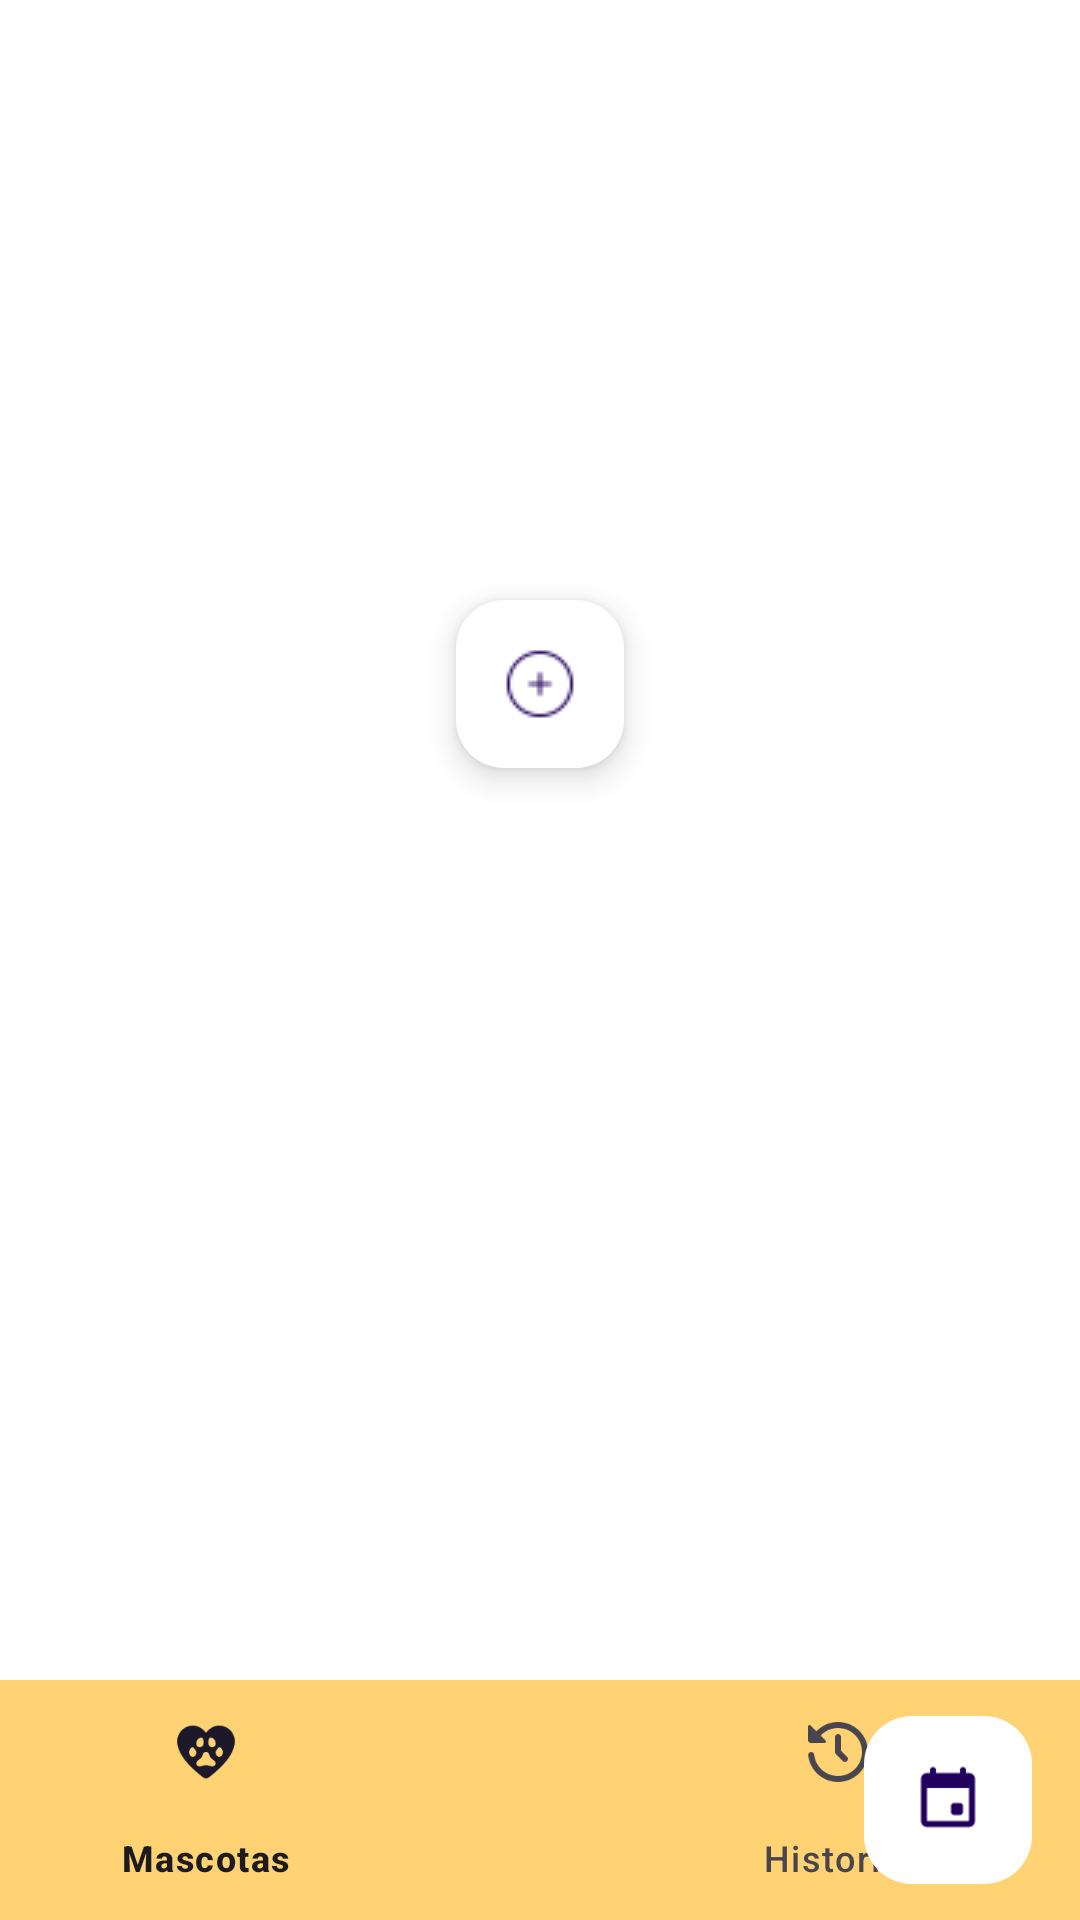

Icons on this 1080w x 1920h Android screen, each with its box as (x1, y1, x2, y2):
add: (456, 650, 624, 768)
